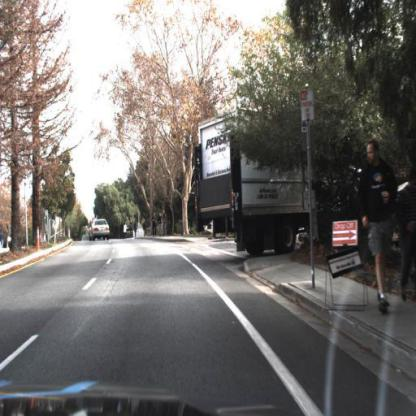car: (87, 219, 114, 242)
pedestrian: (357, 136, 398, 316), (88, 219, 114, 242), (151, 209, 159, 239), (162, 208, 170, 237), (158, 210, 163, 240), (142, 217, 148, 239), (130, 218, 135, 238), (134, 219, 139, 238), (124, 222, 129, 240)
truck: (194, 107, 306, 258)
